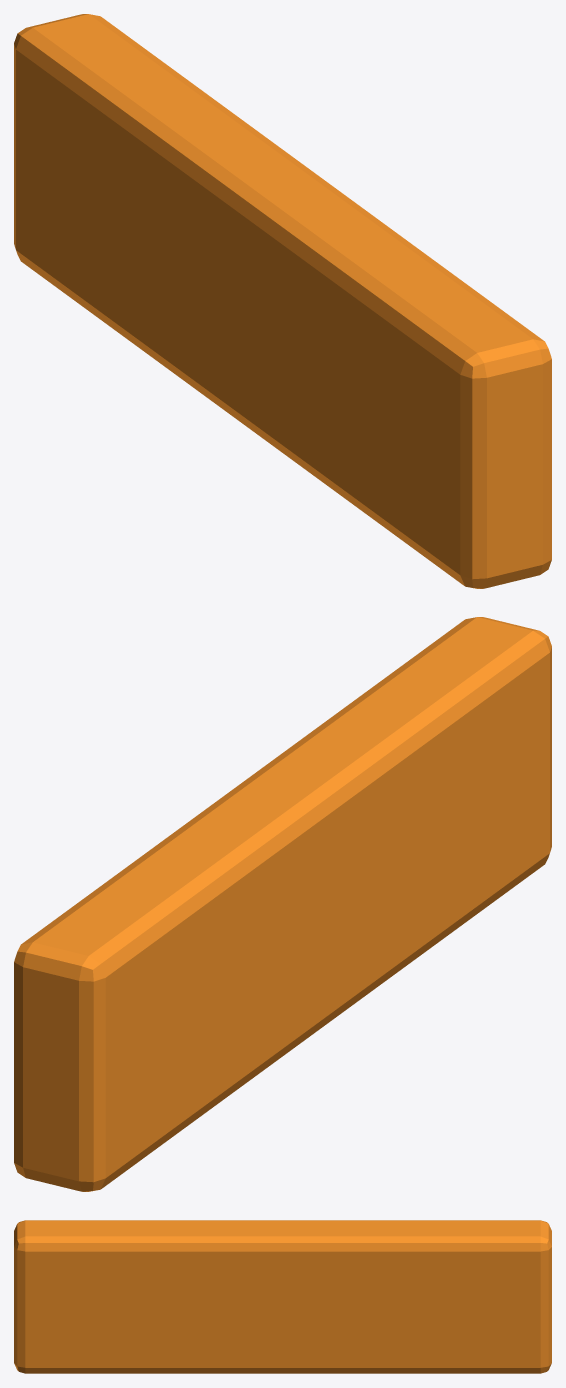
The model's file is wall_rectangular.fbx.
3 renders of one model, top to bottom at view 1: azimuth 30°, elevation 25°; view 2: azimuth 150°, elevation 25°; view 3: azimuth 270°, elevation 25°, orthographic. The views are drawn at different scales.
Parts seen in each view (by area): view 1: wall_rectangular; view 2: wall_rectangular; view 3: wall_rectangular.
Boxes of the visible parts, x1,y1,x2,y2 form: wall_rectangular: (14, 14, 551, 588); wall_rectangular: (14, 617, 551, 1191); wall_rectangular: (14, 1220, 551, 1373).
Size of the model in its own units: 79.58 by 200 by 713.
